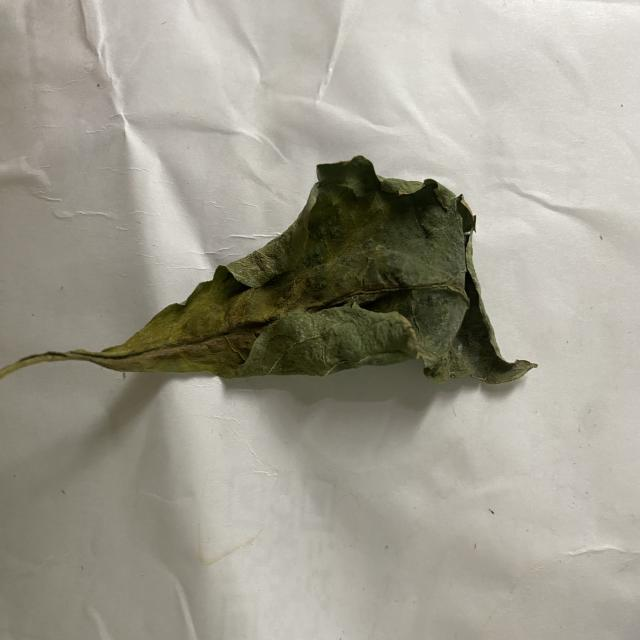Leaf: (124, 153, 538, 387)
